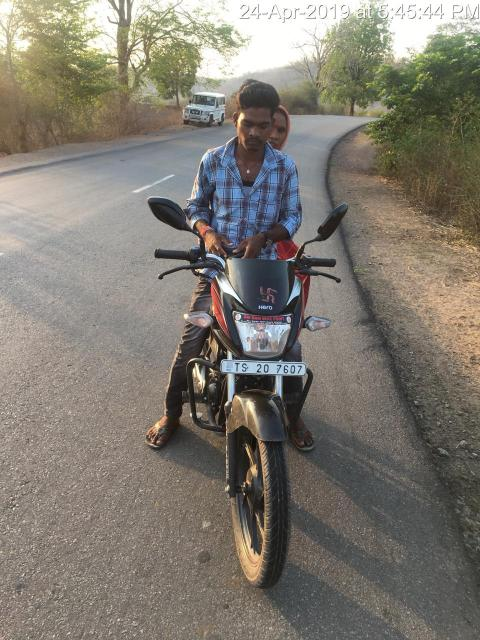motor: (146, 191, 354, 590)
non-helm: (236, 79, 291, 157)
